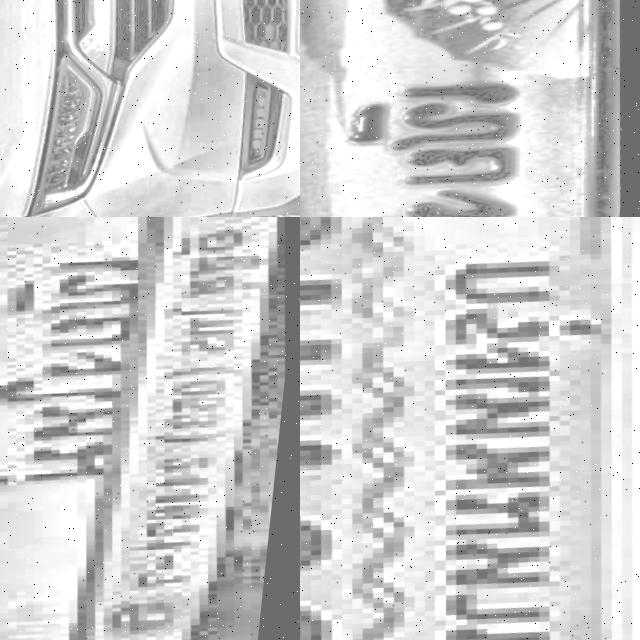license-plate: (300, 217, 640, 640), (0, 217, 300, 640), (300, 0, 640, 217)
